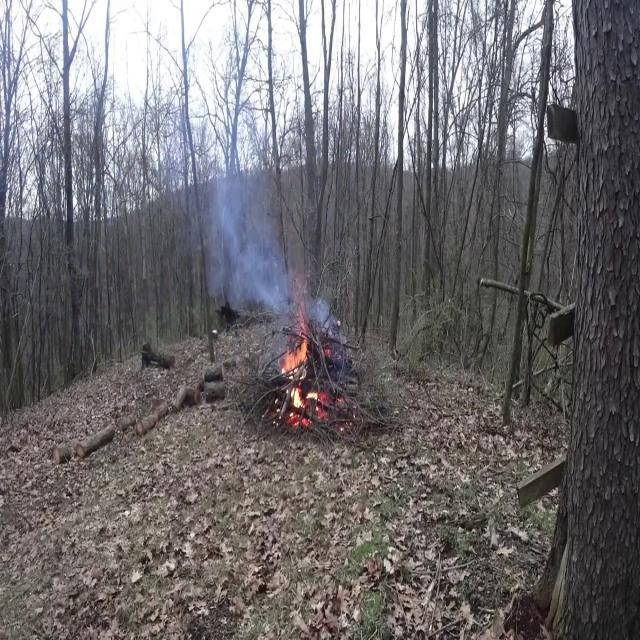Fire: (276, 331, 316, 424)
Smoke: (195, 128, 335, 342)
